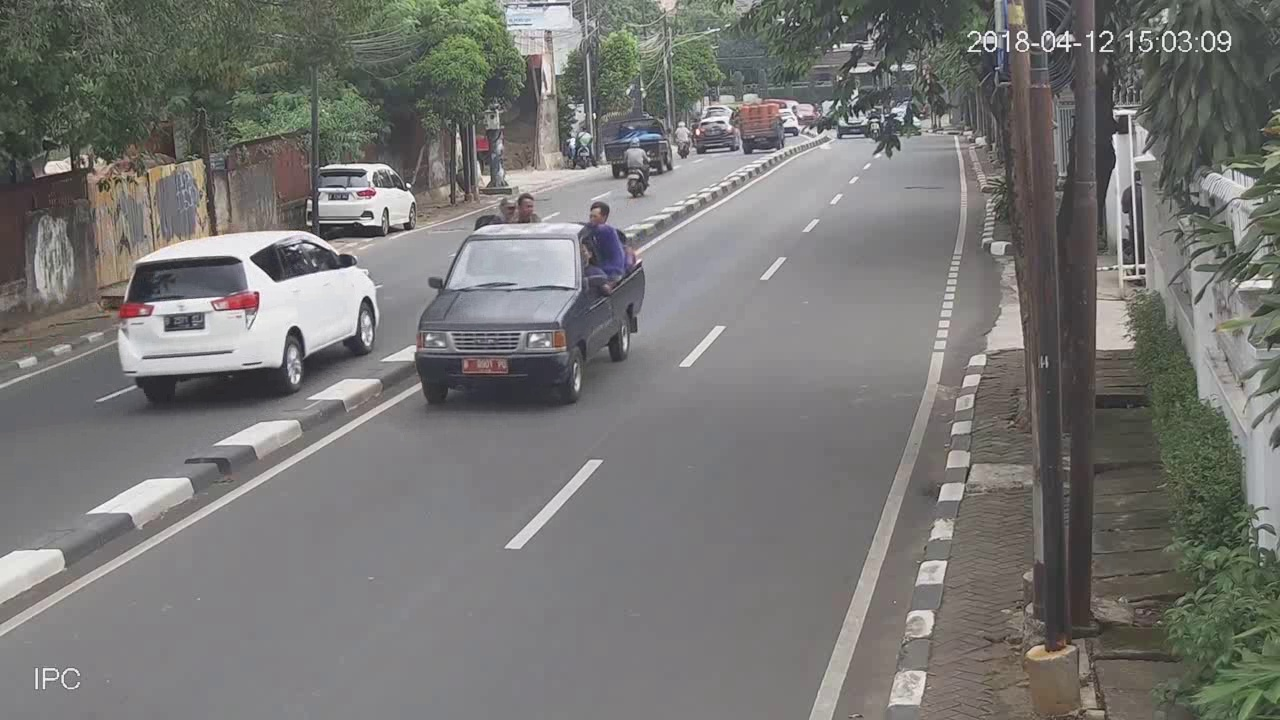car: (111, 228, 382, 399), (303, 159, 421, 237)
truck: (415, 221, 654, 408)
